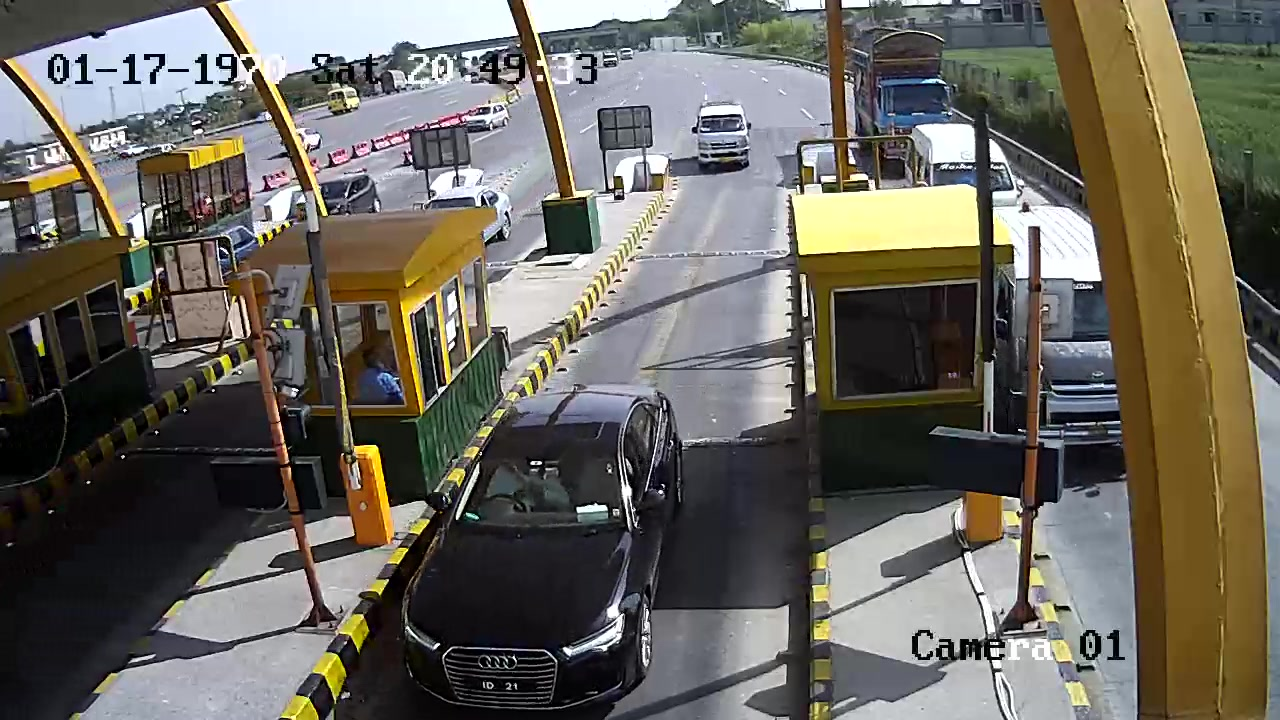F1: (390, 380, 708, 711)
